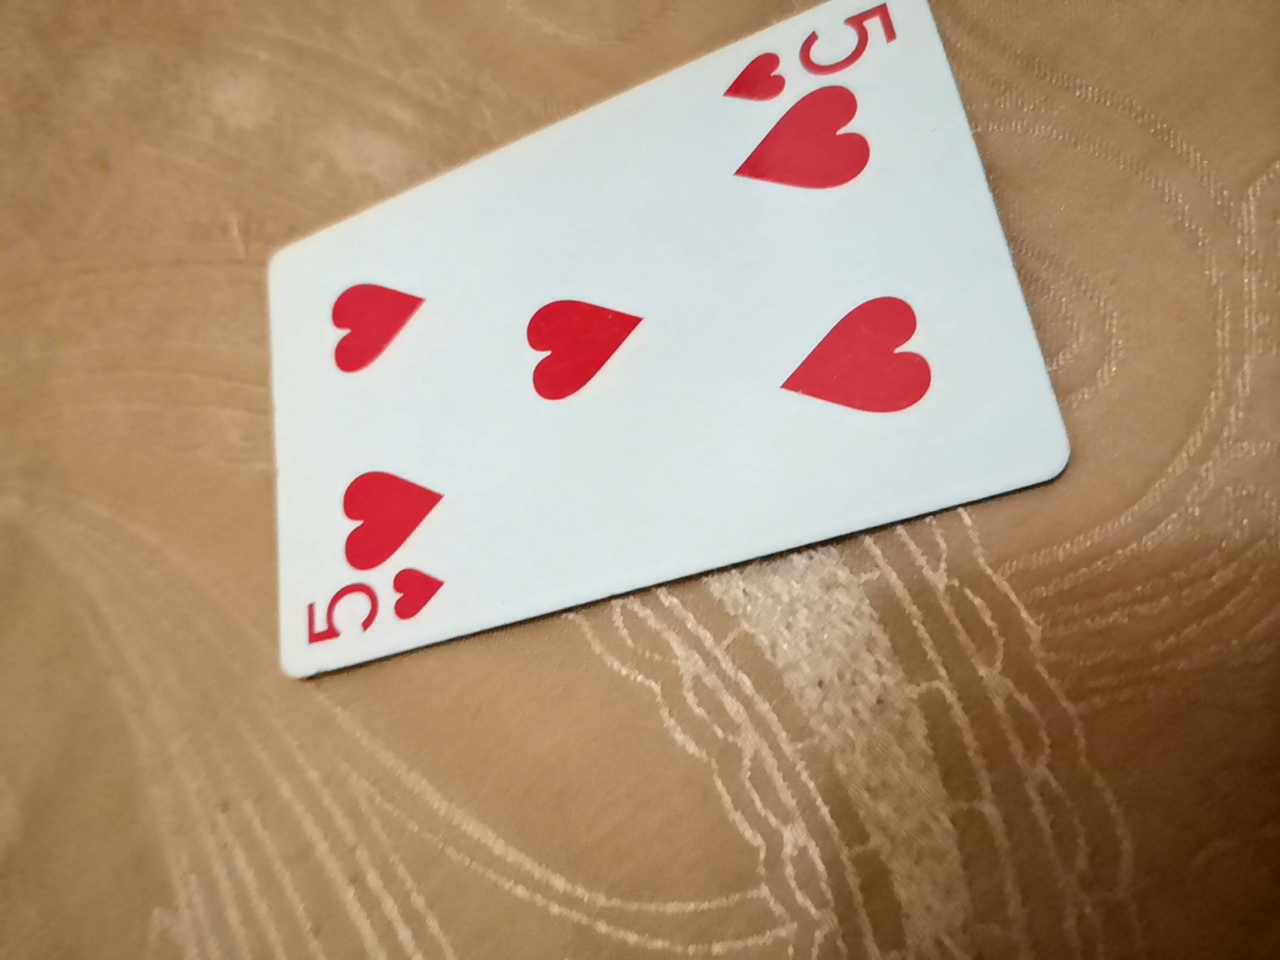hx 5: (241, 7, 1070, 686)
